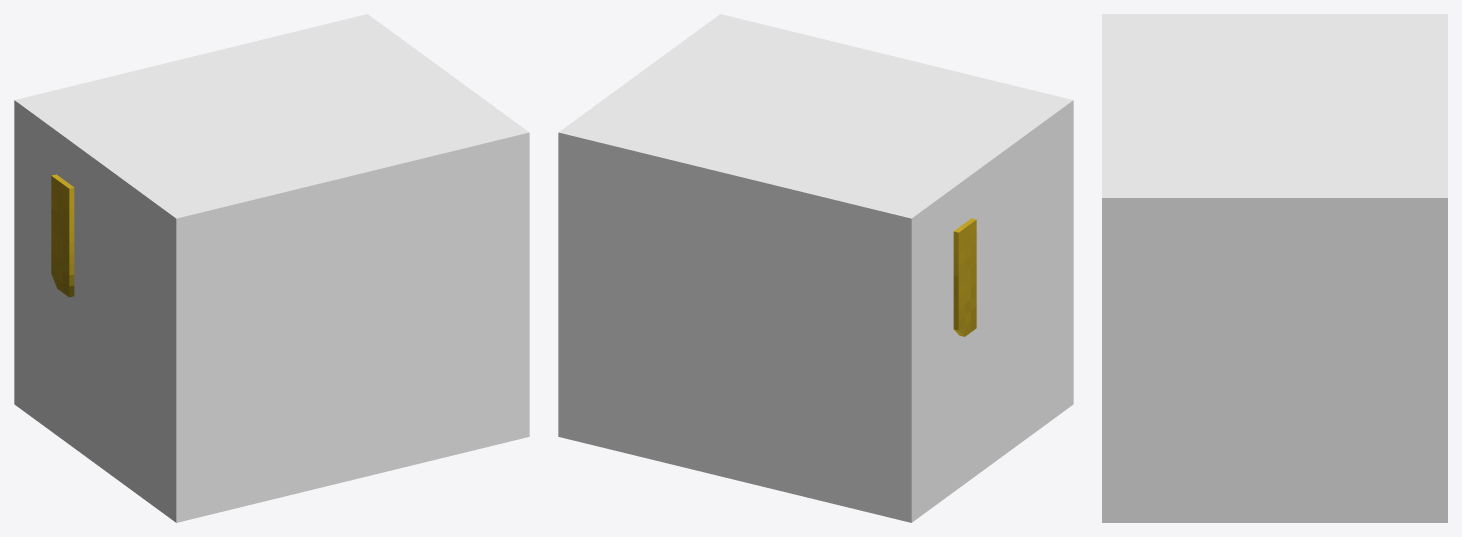
Rendered from eot.obj.
The picture shows the model from 3 angles, left to right: view 1: azimuth 30°, elevation 25°; view 2: azimuth 150°, elevation 25°; view 3: azimuth 270°, elevation 25°; orthographic projection. The views are drawn at different scales.
Parts seen in each view (by area): view 1: empty_Cube.002, SHELL_Cube.004; view 2: empty_Cube.002, SHELL_Cube.004; view 3: empty_Cube.002.
Part boxes in pixels (x1,y1,x2,y2): empty_Cube.002: (14,14,529,522); SHELL_Cube.004: (51,174,74,297); empty_Cube.002: (558,14,1073,522); SHELL_Cube.004: (953,218,976,336); empty_Cube.002: (1102,14,1447,522).
Bounding box in the file's own units: 2.16 × 1.75 × 1.69.
1 material, 1 textured.
